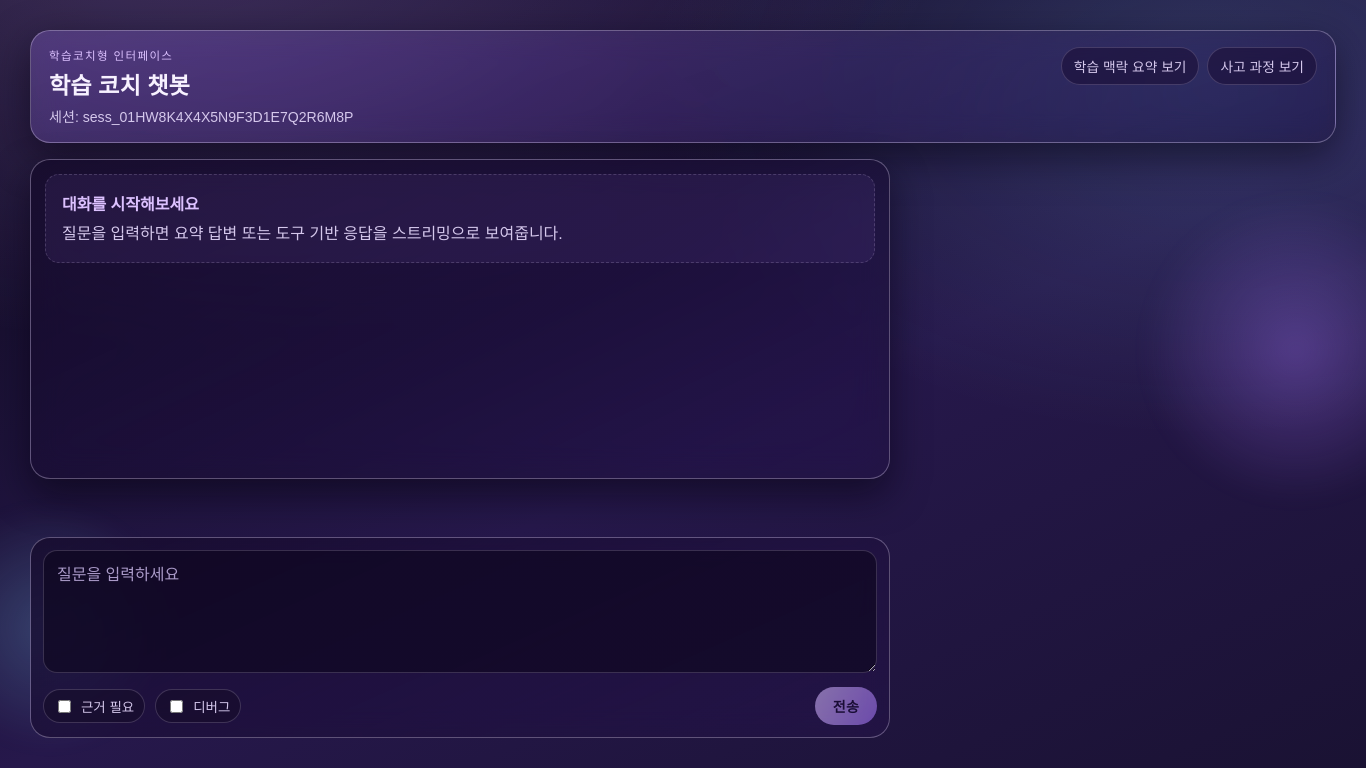
Test: UI /chat/[sessionId] › logs mismatch warning once when token and final message differ
The image size is (1366, 768).
Type "질문" into the text box with placeholder "질문을 입력하세요".
click(460, 612); type("질문")  # box [43, 550, 877, 673]
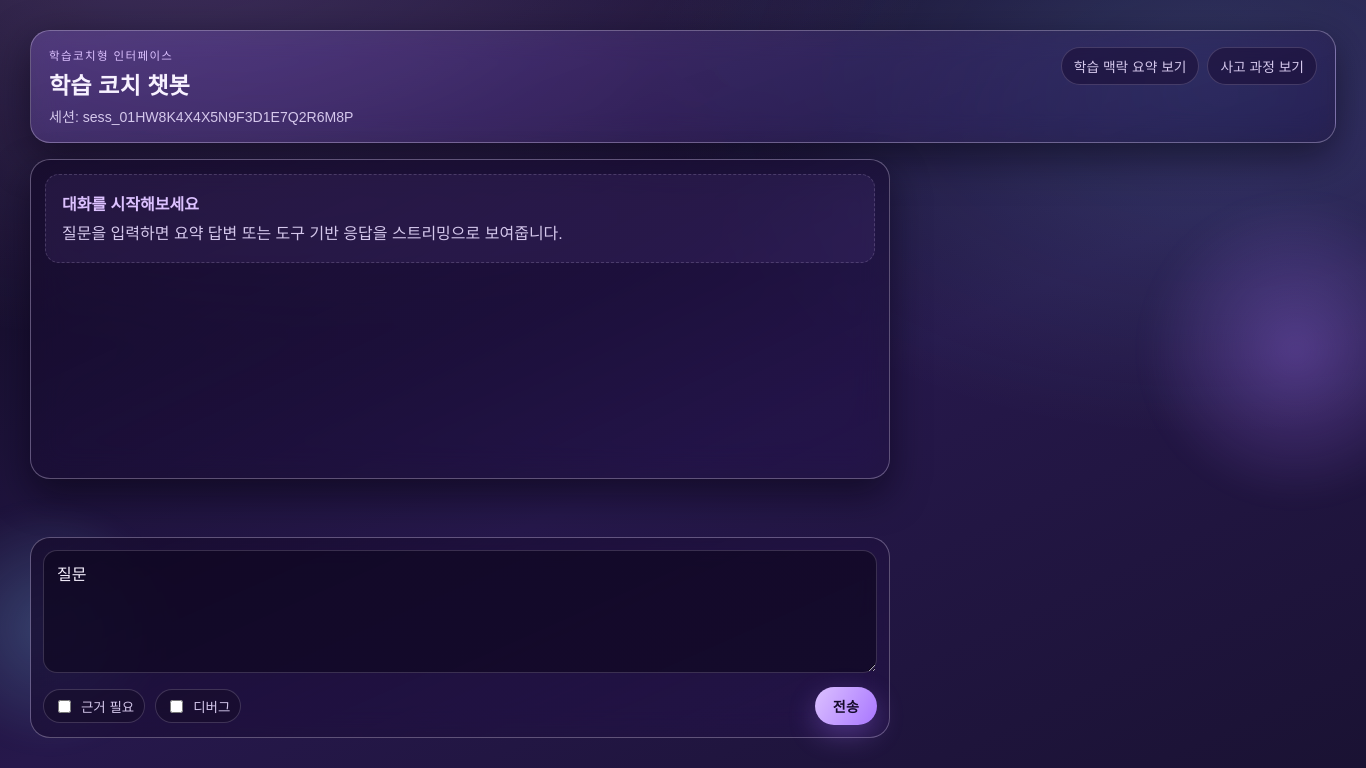
Click the button "전송".
click(846, 706)  # box [815, 687, 877, 725]
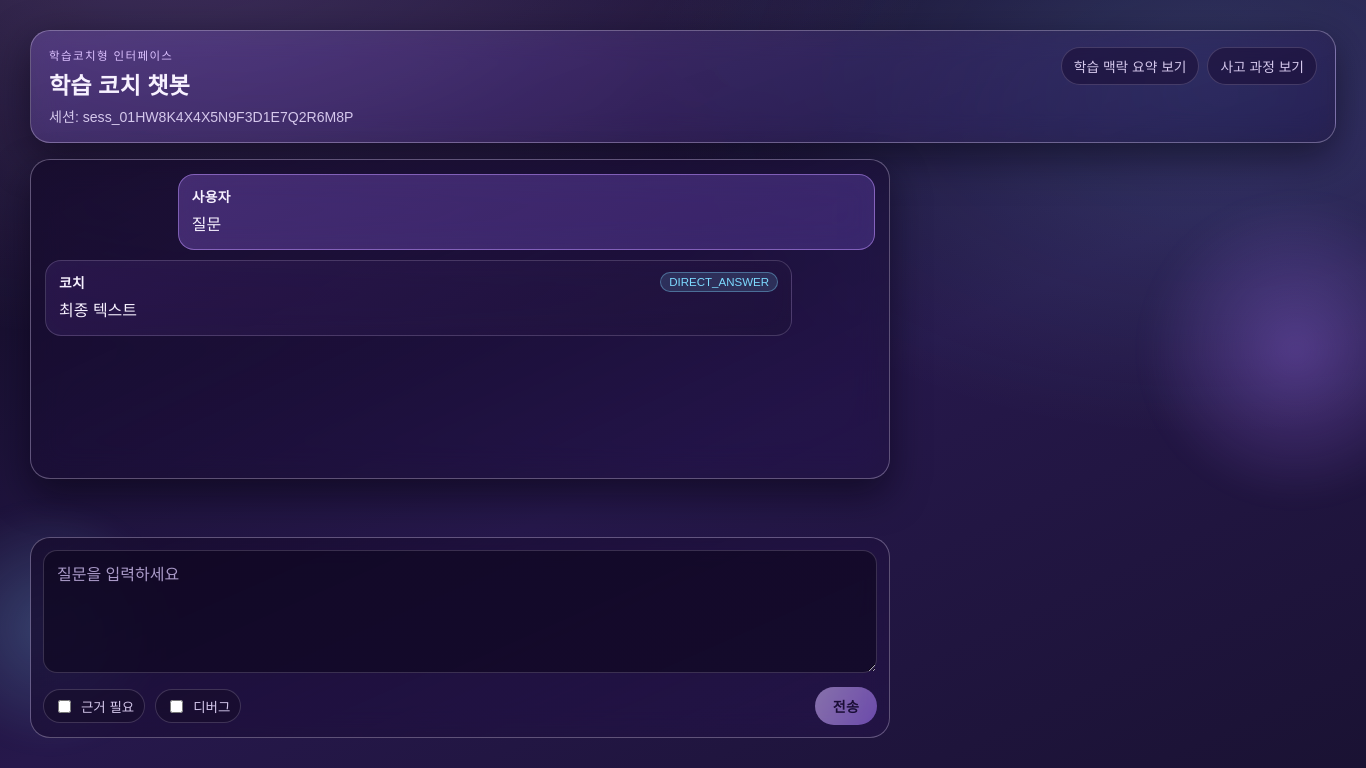
Result: the text "최종 텍스트" is shown at [59, 302, 137, 319]
